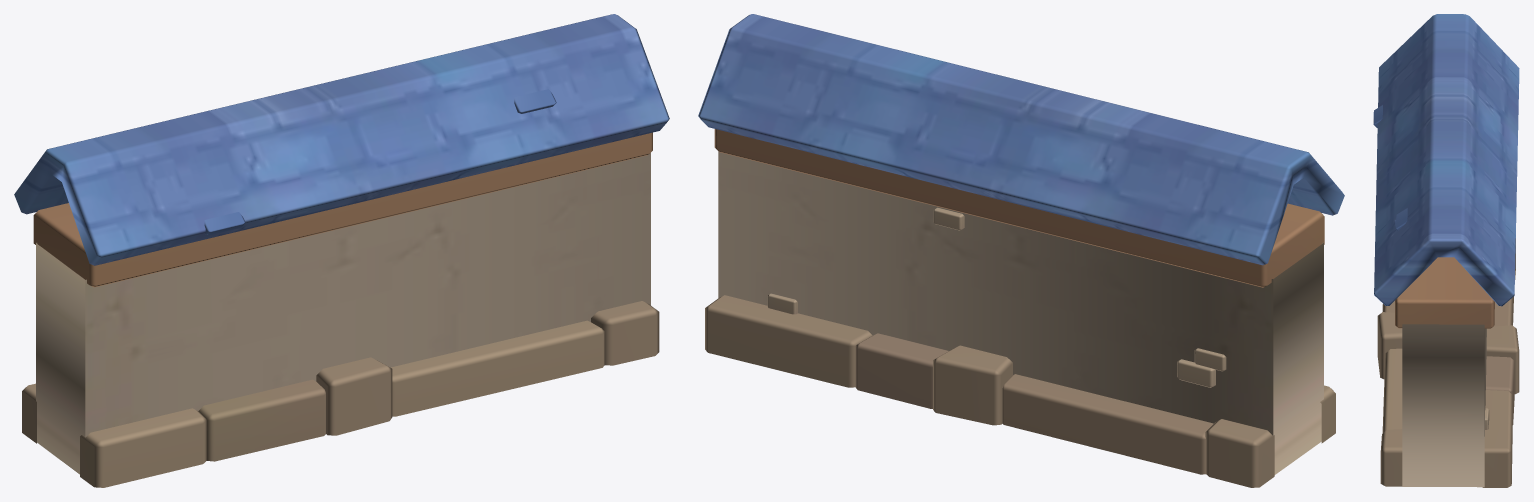
The model's file is Wall.glb.
The picture shows the model from 3 angles, left to right: view 1: azimuth 30°, elevation 25°; view 2: azimuth 150°, elevation 25°; view 3: azimuth 270°, elevation 25°; orthographic projection. The views are drawn at different scales.
Parts seen in each view (by area): view 1: ct_town_wall_1; view 2: ct_town_wall_1; view 3: ct_town_wall_1.
Part boxes in pixels (x1=…): ct_town_wall_1: x1=14, y1=14, x2=669, y2=487; ct_town_wall_1: x1=698, y1=14, x2=1344, y2=487; ct_town_wall_1: x1=1373, y1=14, x2=1519, y2=487.
Size of the model in its own units: 7.46 by 3.8 by 2.02.
3 materials, 3 textured.
